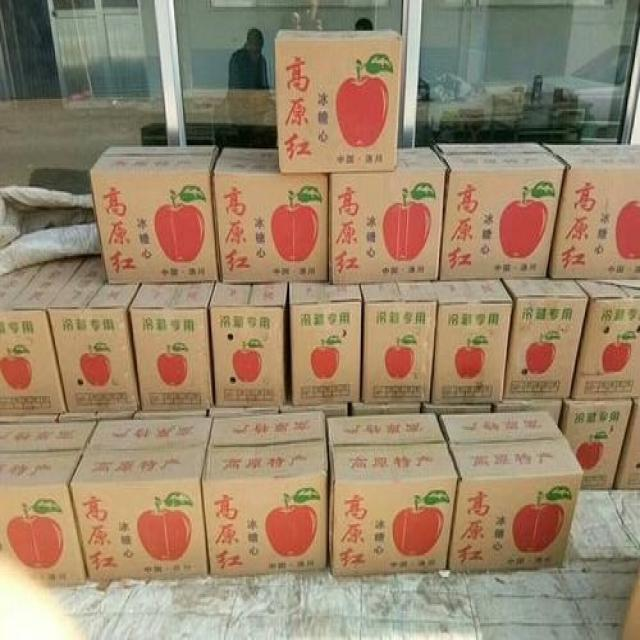box: (69, 415, 214, 582), (439, 410, 582, 570), (324, 411, 458, 572), (201, 410, 328, 575), (430, 142, 566, 282), (275, 29, 402, 172), (91, 145, 220, 285), (329, 147, 448, 285), (0, 422, 97, 589), (211, 147, 328, 283), (47, 253, 142, 413), (0, 256, 86, 415), (541, 143, 640, 278), (128, 280, 216, 410), (500, 278, 589, 399), (429, 280, 513, 403), (207, 280, 288, 406), (358, 280, 436, 404), (288, 282, 362, 406), (570, 276, 640, 399), (559, 399, 634, 492), (614, 398, 640, 492), (495, 398, 563, 427), (353, 401, 421, 415), (56, 411, 136, 422), (207, 404, 279, 416), (134, 408, 207, 418), (424, 404, 492, 413), (0, 413, 60, 422)
